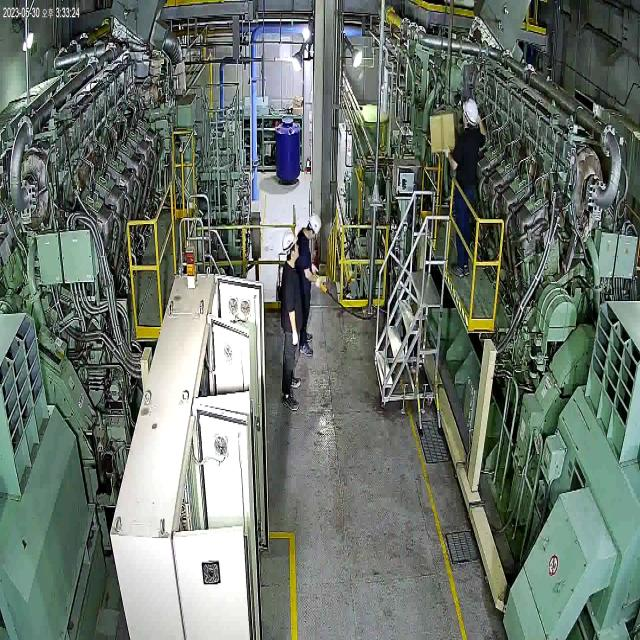Water Tank: (271, 110, 305, 190)
worker: (444, 94, 489, 280), (274, 225, 304, 424), (296, 208, 320, 358)
